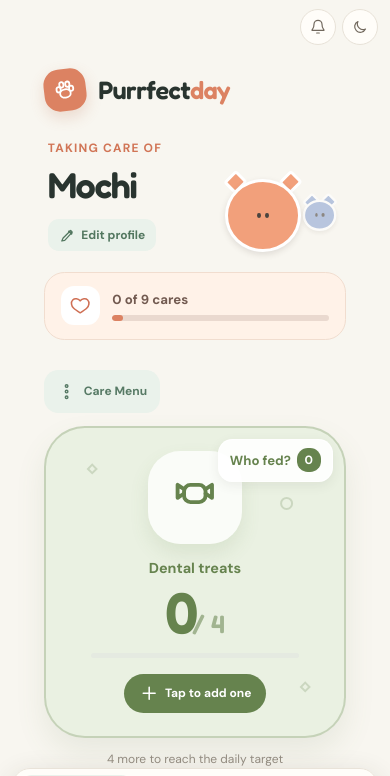
care tracking corrections › opens the care menu from the progress heart
Click the button named "Open care menu".
click(81, 306)  # box x1=61 y1=286 x2=100 y2=325
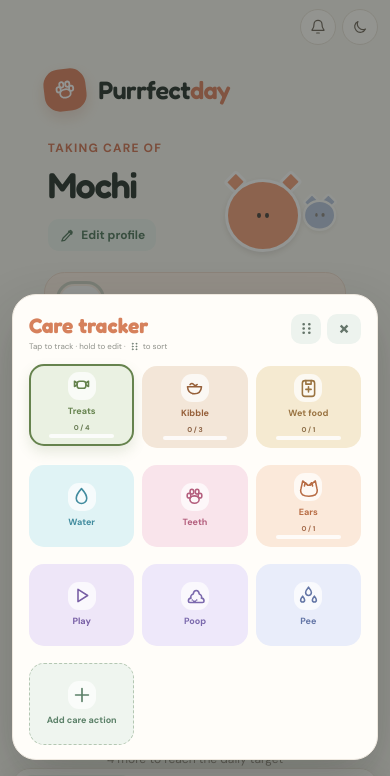
Expected: the dialog "Care tracker" is shown, x1=12 y1=294 x2=378 y2=760
